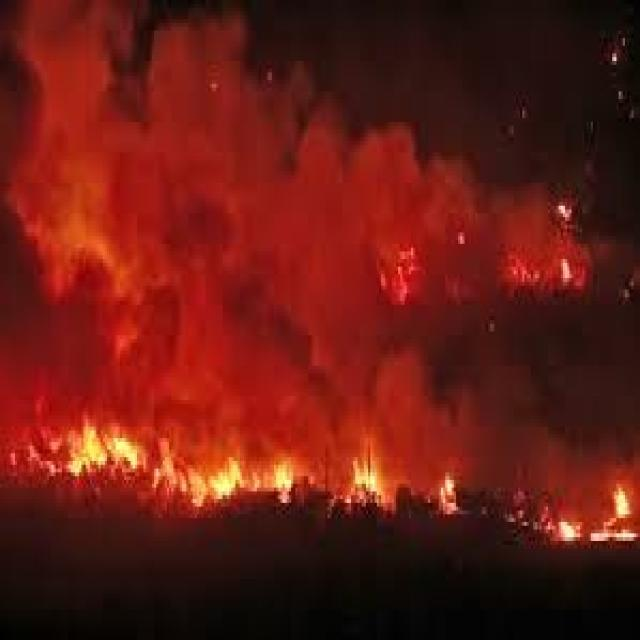Fire: (19, 426, 390, 504), (551, 486, 640, 551), (438, 472, 456, 518)
